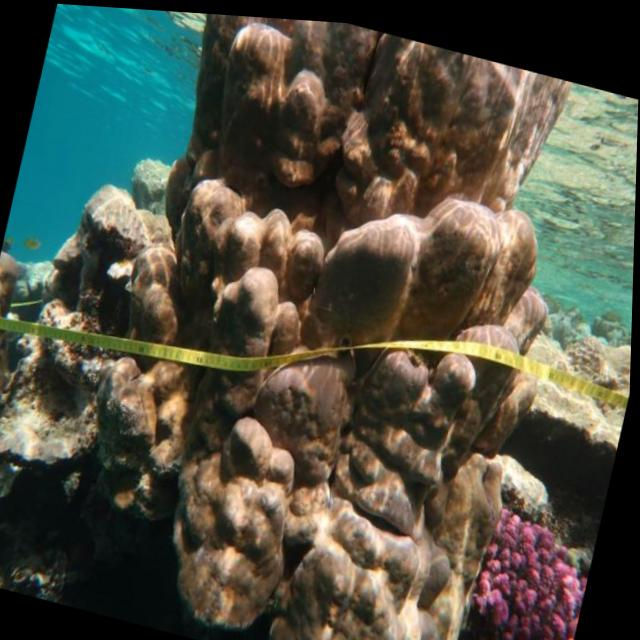Healthy Coral: (444, 485, 603, 640)
